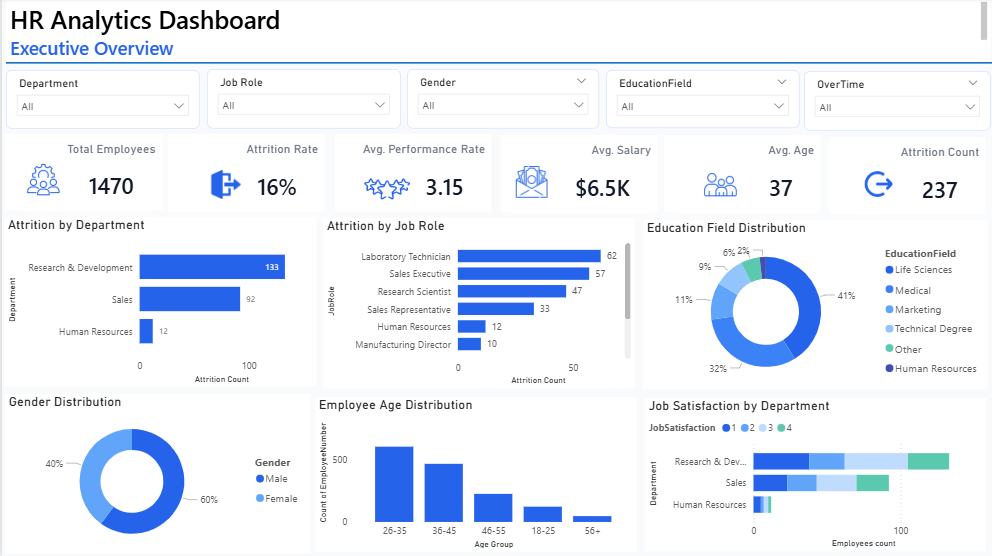

What the dashboard file says about the page in this screenshot:
{"tool":"powerbi","page":{"name":"Overview","canvas":[1280,720],"ordinal":1},"visuals":[{"type":"cardVisual","title":"Total Employees","fields":{"Data":["_Measure.Total Employees"]},"box":[3.9,175.5,202.6,99.4],"z":0},{"type":"cardVisual","title":"Attrition Count","fields":{"Data":["_Measure.Attrition Count"]},"box":[1067.3,178.8,202,100.1],"z":1000},{"type":"cardVisual","title":"Attrition Rate","fields":{"Data":["_Measure.Attrition Rate"]},"box":[214.5,175.3,202,100.1],"z":2000},{"type":"cardVisual","title":"Avg. Salary","fields":{"Data":["_Measure.Average Salary"]},"box":[643.6,177,202,100.1],"z":3000},{"type":"cardVisual","title":"Avg. Age","fields":{"Data":["_Measure.Average Age"]},"box":[854.5,177,202,100.1],"z":4000},{"type":"cardVisual","title":"Avg. Performance Rate","fields":{"Data":["_Measure.Average Performance Rating"]},"box":[429.2,175.3,202,100.1],"z":5000},{"type":"textbox","box":[5.2,0,1271,82.6],"z":6000},{"type":"slicer","fields":{"Values":["HR-Employee-Attrition.Department"]},"box":[5.4,93,250,76],"z":7000},{"type":"slicer","fields":{"Values":["HR-Employee-Attrition.JobRole"]},"box":[263.9,91.2,250.3,76.9],"z":8000},{"type":"slicer","fields":{"Values":["HR-Employee-Attrition.Gender"]},"box":[522.8,91.2,248.5,76.9],"z":9000},{"type":"slicer","fields":{"Values":["HR-Employee-Attrition.EducationField"]},"box":[779.8,93,250.3,75.1],"z":10000},{"type":"slicer","fields":{"Values":["HR-Employee-Attrition.OverTime"]},"box":[1034.8,94.2,241.3,77.4],"z":13000},{"type":"image","box":[13.2,213.5,81.5,43],"z":14000},{"type":"image","box":[249,220.6,80,40],"z":16000},{"type":"image","box":[446.5,216.8,100.6,59.4],"z":18000},{"type":"image","box":[661.5,216.9,42,41],"z":19000},{"type":"image","box":[889,219.4,76.1,42.6],"z":21000},{"type":"image","box":[1091.6,218.1,76.1,43.9],"z":23000},{"type":"clusteredBarChart","title":"Attrition by Department","fields":{"Category":["HR-Employee-Attrition.Department"],"Y":["_Measure.Attrition Count"]},"box":[2.6,282.6,402.6,219.4],"z":24000},{"type":"clusteredBarChart","title":"Attrition by Job Role","fields":{"Category":["HR-Employee-Attrition.JobRole"],"Y":["_Measure.Attrition Count"]},"box":[414.7,284.2,402.2,219.9],"z":25000},{"type":"donutChart","title":"Gender Distribution","fields":{"Category":["HR-Employee-Attrition.Gender"],"Y":["CountNonNull(HR-Employee-Attrition.EmployeeNumber)"]},"box":[3.9,511,393.5,206.5],"z":26000},{"type":"donutChart","title":"Education Field Distribution","fields":{"Category":["HR-Employee-Attrition.EducationField"],"Y":["CountNonNull(HR-Employee-Attrition.EmployeeNumber)"]},"box":[827.1,286.5,445.2,218.1],"z":27000},{"type":"clusteredColumnChart","title":"Employee Age Distribution","fields":{"Category":["HR-Employee-Attrition.Age Group"],"Y":["CountNonNull(HR-Employee-Attrition.EmployeeNumber)"]},"box":[404,514.9,414.7,200.2],"z":28000},{"type":"barChart","title":"Job Satisfaction by Department","fields":{"Category":["HR-Employee-Attrition.Department"],"Y":["_Measure.Attrition Count"],"Series":["HR-Employee-Attrition.JobSatisfaction"]},"box":[829.5,516.6,439.8,198.4],"z":29000},{"type":"shape","box":[5.7,65.6,1274.3,35.7],"z":30000}]}

Visuals, with their boxes in screenshot pixels (x1, y1, x2, y2), scaled from the page's 1280x720 canvas onto the 992x556 screenshot:
"Total Employees" cardVisual: l=3, t=136, r=160, b=212
"Attrition Count" cardVisual: l=827, t=138, r=984, b=215
"Attrition Rate" cardVisual: l=166, t=135, r=323, b=213
"Avg. Salary" cardVisual: l=499, t=137, r=655, b=214
"Avg. Age" cardVisual: l=662, t=137, r=819, b=214
"Avg. Performance Rate" cardVisual: l=333, t=135, r=489, b=213
textbox: l=4, t=0, r=989, b=64
slicer - HR-Employee-Attrition.Department: l=4, t=72, r=198, b=131
slicer - HR-Employee-Attrition.JobRole: l=205, t=70, r=399, b=130
slicer - HR-Employee-Attrition.Gender: l=405, t=70, r=598, b=130
slicer - HR-Employee-Attrition.EducationField: l=604, t=72, r=798, b=130
slicer - HR-Employee-Attrition.OverTime: l=802, t=73, r=989, b=133
image: l=10, t=165, r=73, b=198
image: l=193, t=170, r=255, b=201
image: l=346, t=167, r=424, b=213
image: l=513, t=167, r=545, b=199
image: l=689, t=169, r=748, b=202
image: l=846, t=168, r=905, b=202
"Attrition by Department" clusteredBarChart: l=2, t=218, r=314, b=388
"Attrition by Job Role" clusteredBarChart: l=321, t=219, r=633, b=389
"Gender Distribution" donutChart: l=3, t=395, r=308, b=554
"Education Field Distribution" donutChart: l=641, t=221, r=986, b=390
"Employee Age Distribution" clusteredColumnChart: l=313, t=398, r=634, b=552
"Job Satisfaction by Department" barChart: l=643, t=399, r=984, b=552
shape: l=4, t=51, r=991, b=78
